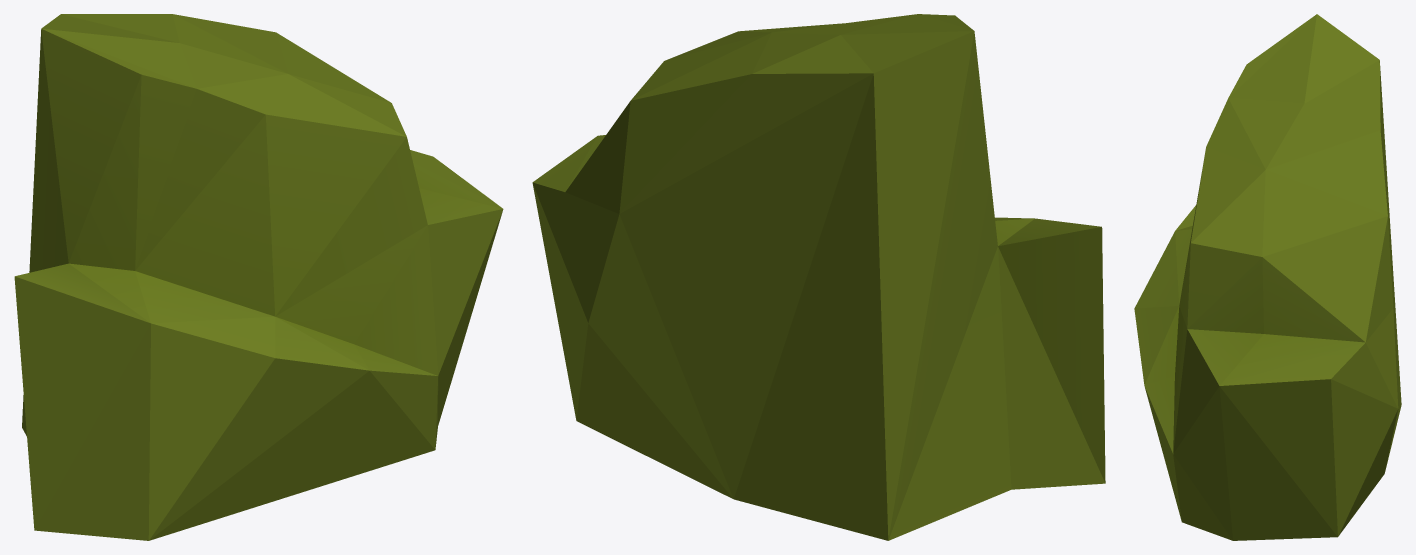
File: angular_cliff_a.glb
The picture shows the model from 3 angles, left to right: view 1: azimuth 30°, elevation 25°; view 2: azimuth 150°, elevation 25°; view 3: azimuth 270°, elevation 25°; orthographic projection. The views are drawn at different scales.
Size of the model in its own units: 4.82 by 4.33 by 2.73.
